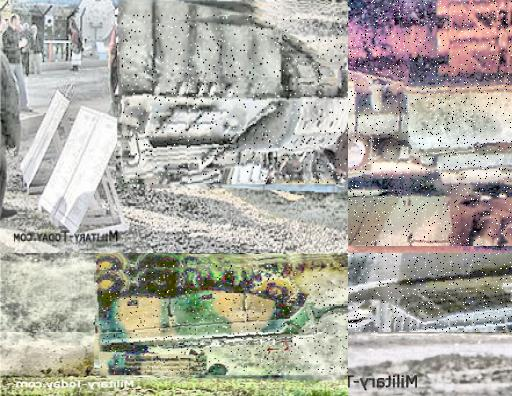tanks: (349, 1, 512, 247), (123, 16, 349, 185), (101, 265, 349, 375), (349, 254, 512, 333), (131, 254, 257, 262), (17, 254, 33, 256)
